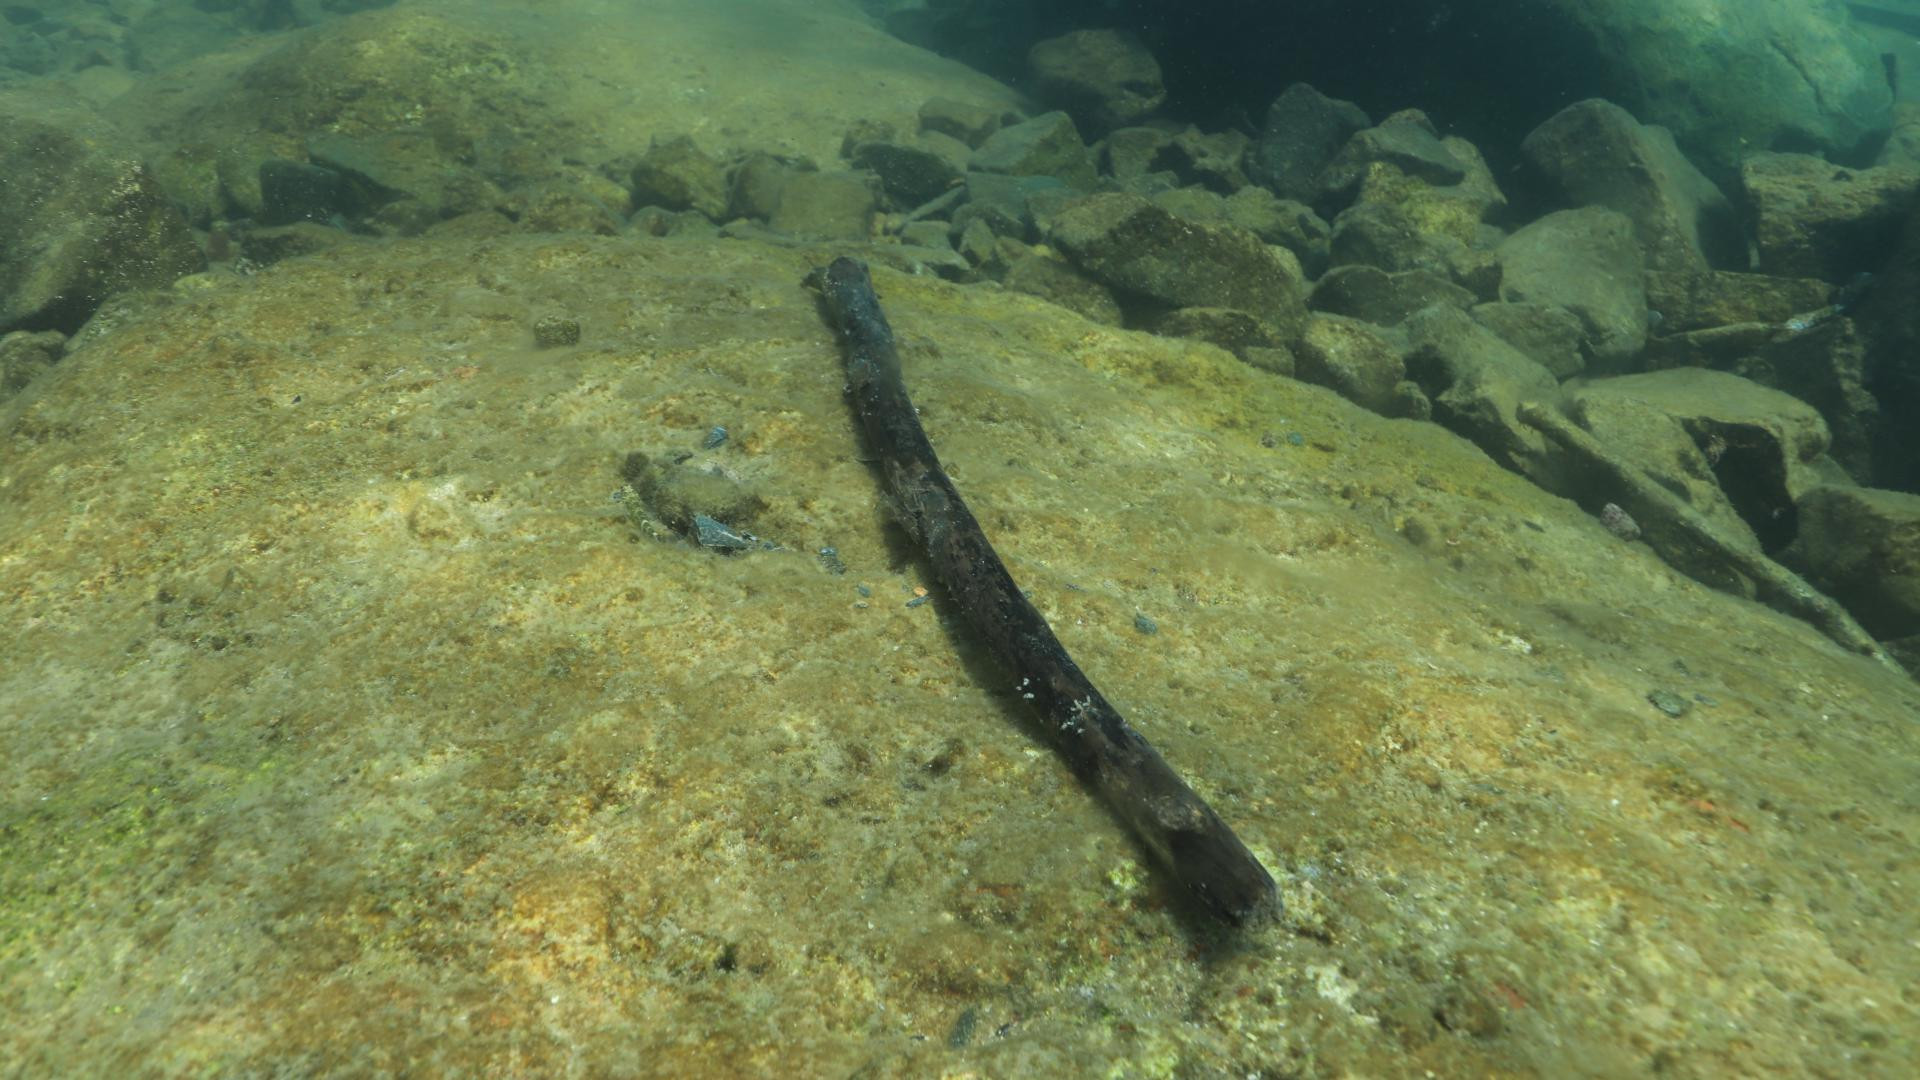wood: (798, 253, 1282, 955)
